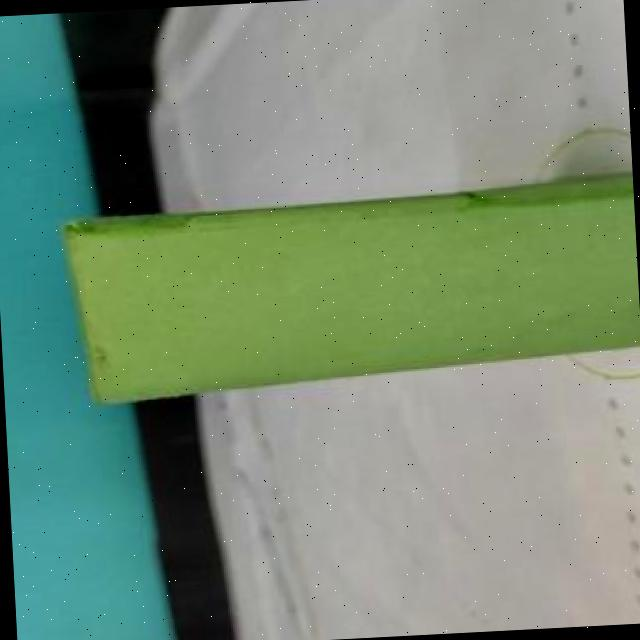greenbox: (58, 178, 640, 412)
